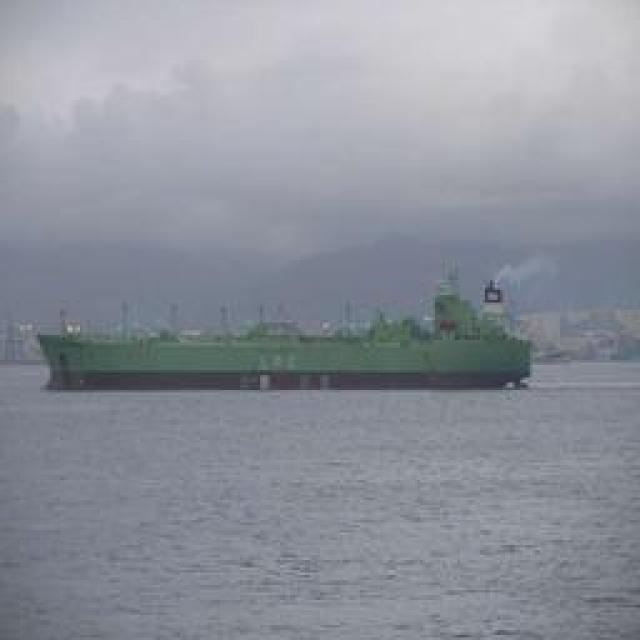CIV_Ship: (40, 292, 550, 386)
